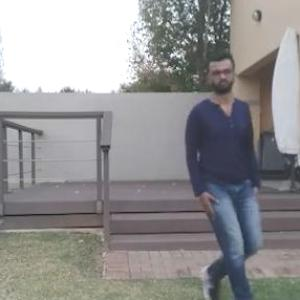follow: (170, 41, 266, 299)
